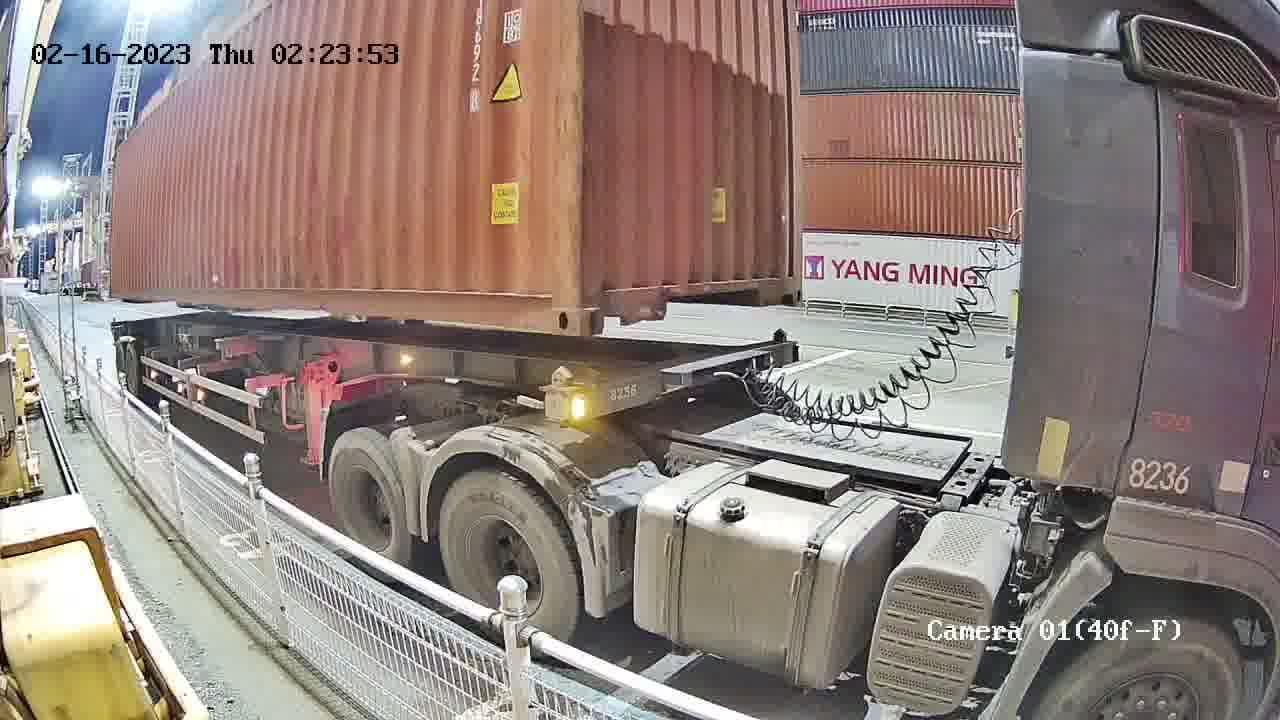Chassis: (544, 340, 795, 423)
Cone: (544, 365, 575, 423), (769, 325, 792, 346)
Hole_L: (582, 275, 635, 336)
Hole_R: (523, 271, 581, 336), (772, 258, 804, 310)
Tire: (440, 475, 579, 657), (329, 432, 409, 580)
